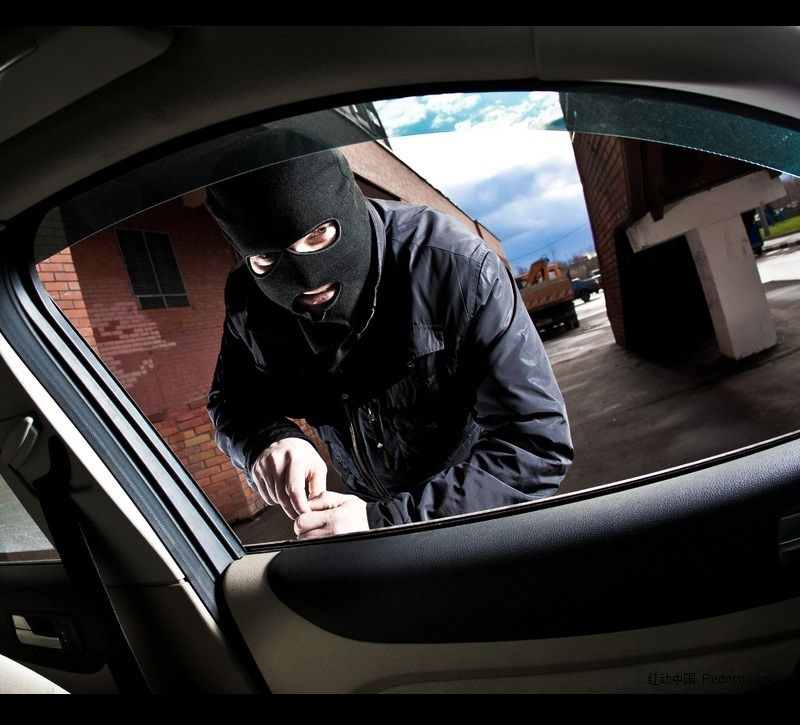face_mask: (241, 198, 353, 321)
